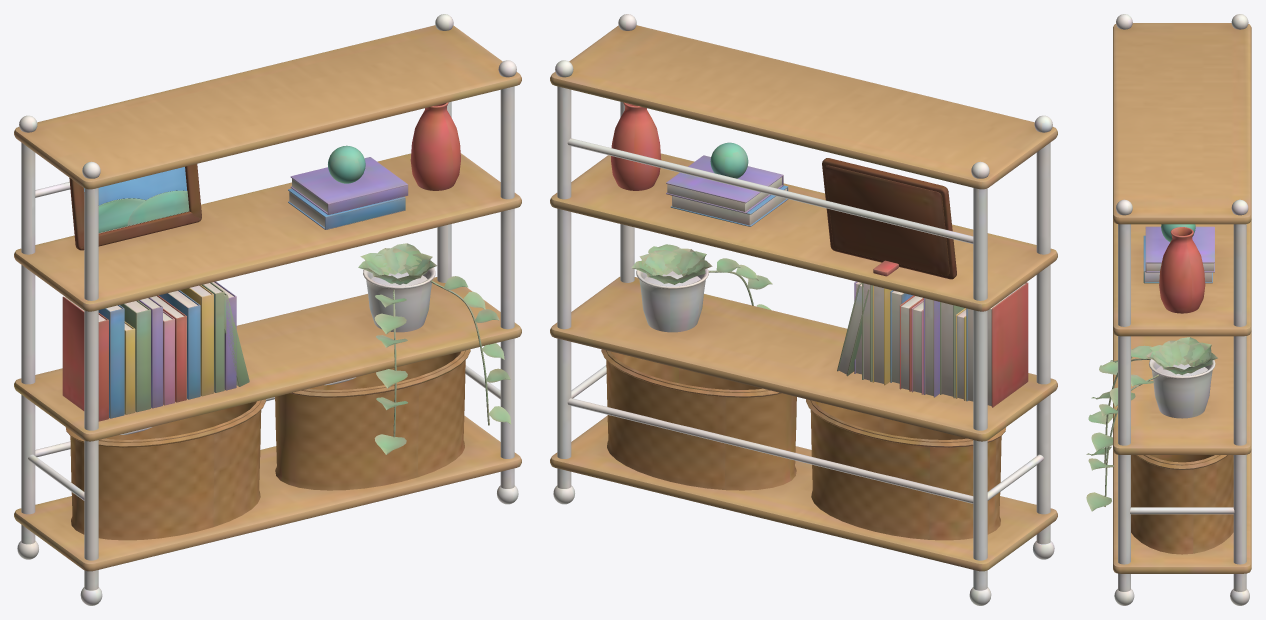
File: shelf-unit.glb
3 views of the same model, side by side, from view 1: azimuth 30°, elevation 25°; view 2: azimuth 150°, elevation 25°; view 3: azimuth 270°, elevation 25° (orthographic). The views are drawn at different scales.
Visible parts, largest first — view 1: shelf-unit_body; view 2: shelf-unit_body; view 3: shelf-unit_body.
Boxes of the visible parts, x1=… form: shelf-unit_body: x1=14, y1=14, x2=521, y2=605; shelf-unit_body: x1=550, y1=14, x2=1057, y2=605; shelf-unit_body: x1=1086, y1=14, x2=1251, y2=605.
Bounding box in the file's own units: 1.2 × 1.16 × 0.4286.
1 material, 1 textured.
